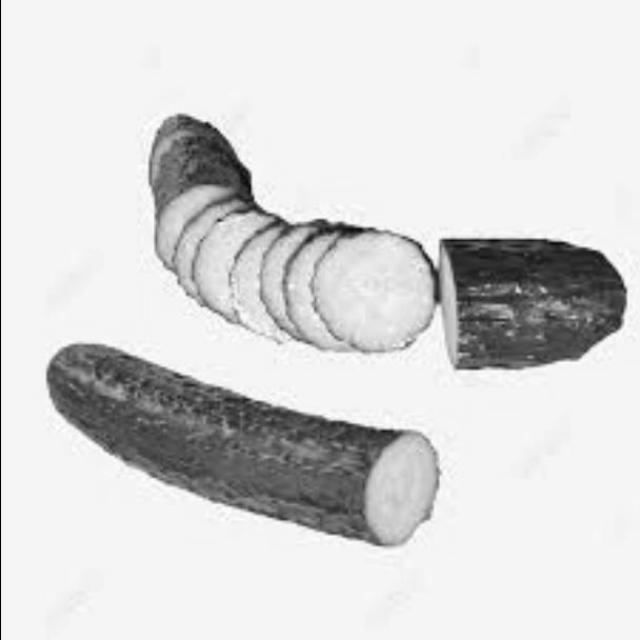cucumber: (24, 316, 439, 558), (130, 96, 422, 358), (429, 222, 636, 398)
